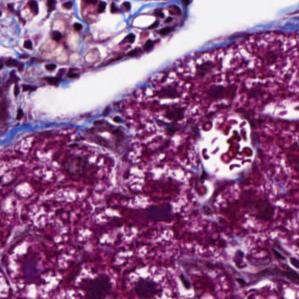inflammation: (111, 3, 189, 60), (23, 36, 84, 87), (6, 0, 87, 33), (153, 81, 191, 129), (16, 244, 53, 292), (79, 271, 118, 299), (199, 82, 242, 103), (194, 57, 220, 82)
